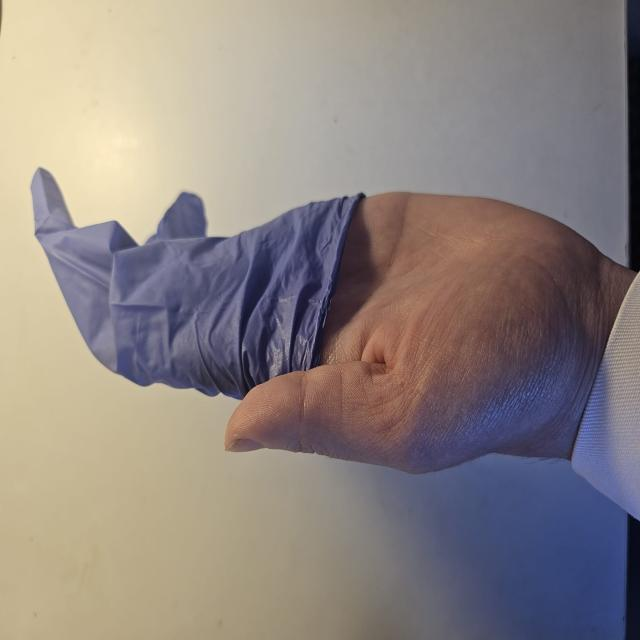glove_partial: (29, 165, 586, 474)
